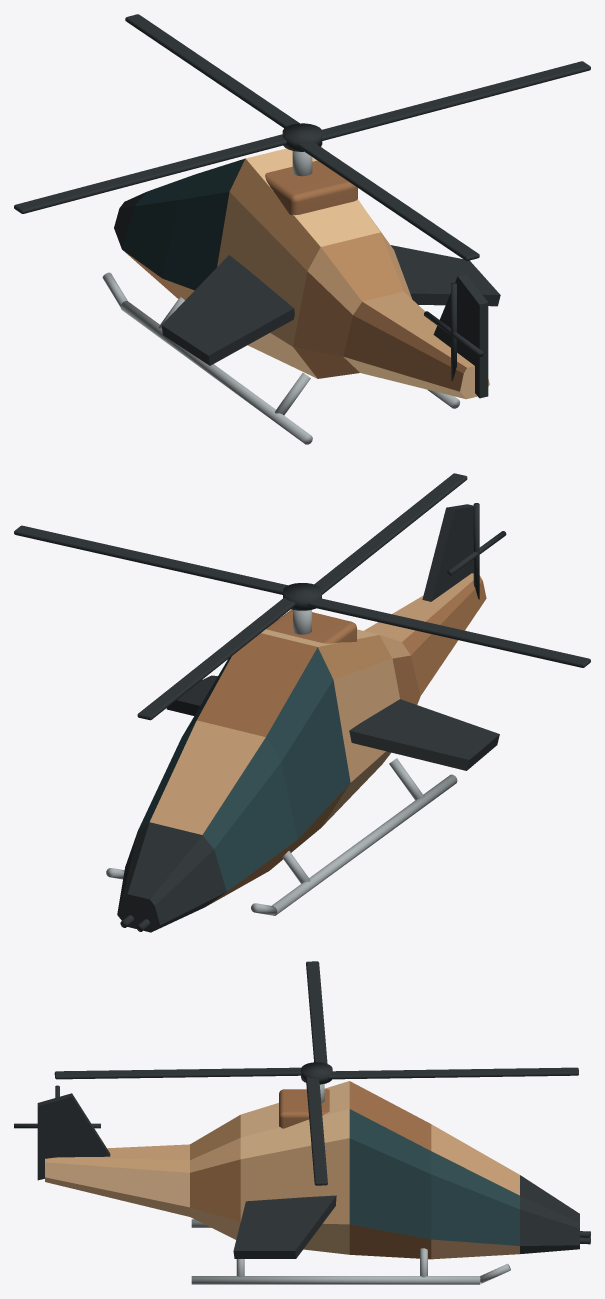
The model's file is narrows-helicopter.glb.
The picture shows the model from 3 angles, top to bottom: view 1: azimuth 30°, elevation 25°; view 2: azimuth 150°, elevation 25°; view 3: azimuth 270°, elevation 25°; orthographic projection. The views are drawn at different scales.
Visible parts, largest first — view 1: Angular desert fuselage, Stub wing, Stub wing.001, Main rotor blade.002, Main rotor blade, Tail fin, Rotor gearbox, Main rotor blade.003, Main rotor blade.001, Landing skid, Rotor hub; view 2: Angular desert fuselage, Stub wing, Main rotor blade.002, Main rotor blade, Tail fin, Main rotor blade.001, Main rotor blade.003, Landing skid, Rotor gearbox, Stub wing.001, Rotor hub, Tail rotor blade.001; view 3: Angular desert fuselage, Stub wing.001, Tail fin, Landing skid.001, Main rotor blade.001, Main rotor blade.003, Main rotor blade, Main rotor blade.002, Rotor gearbox, Rotor hub.
Part boxes in pixels (bbox=[...]): Angular desert fuselage: bbox=[114, 146, 489, 399]; Stub wing: bbox=[161, 255, 294, 365]; Stub wing.001: bbox=[390, 245, 500, 306]; Main rotor blade.002: bbox=[14, 134, 286, 213]; Main rotor blade: bbox=[321, 61, 590, 140]; Tail fin: bbox=[433, 274, 488, 398]; Rotor gearbox: bbox=[265, 160, 357, 215]; Main rotor blade.003: bbox=[297, 142, 479, 260]; Main rotor blade.001: bbox=[125, 14, 299, 128]; Landing skid: bbox=[120, 301, 312, 444]; Rotor hub: bbox=[282, 123, 322, 151]; Angular desert fuselage: bbox=[117, 573, 486, 932]; Stub wing: bbox=[349, 699, 499, 770]; Main rotor blade.002: bbox=[308, 598, 590, 667]; Main rotor blade: bbox=[14, 525, 287, 594]; Tail fin: bbox=[422, 504, 473, 601]; Main rotor blade.001: bbox=[137, 598, 295, 720]; Main rotor blade.003: bbox=[314, 473, 467, 594]; Landing skid: bbox=[271, 774, 457, 915]; Rotor gearbox: bbox=[266, 609, 356, 643]; Stub wing.001: bbox=[166, 675, 217, 715]; Rotor hub: bbox=[283, 583, 321, 610]; Tail rotor blade.001: bbox=[473, 503, 479, 599]; Angular desert fuselage: bbox=[45, 1081, 579, 1259]; Stub wing.001: bbox=[233, 1195, 336, 1258]; Tail fin: bbox=[37, 1093, 110, 1180]; Landing skid.001: bbox=[191, 1276, 480, 1284]; Main rotor blade.001: bbox=[328, 1067, 578, 1079]; Main rotor blade.003: bbox=[54, 1067, 301, 1079]; Main rotor blade: bbox=[306, 1077, 327, 1185]; Main rotor blade.002: bbox=[306, 961, 327, 1063]; Rotor gearbox: bbox=[279, 1089, 329, 1128]; Rotor hub: bbox=[301, 1062, 332, 1084].
Size of the model in its own units: 2.89 by 1.14 by 3.18.
